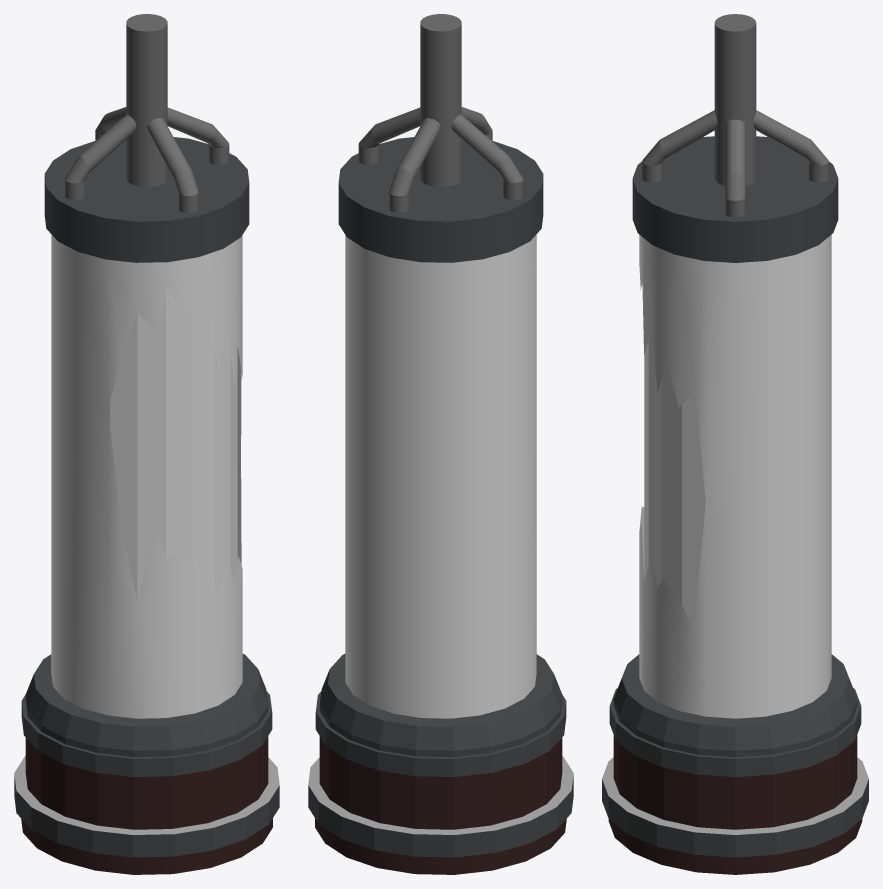
The model's file is Tube_Broken.fbx.
3 renders of one model, left to right at view 1: azimuth 30°, elevation 25°; view 2: azimuth 150°, elevation 25°; view 3: azimuth 270°, elevation 25°, orthographic.
Parts seen in each view (by area): view 1: Glass_Tube, Base, Tube_top, Pipe_Center, Pipe_02, Pipe_01, Pipe_04; view 2: Glass_Tube, Base, Tube_top, Pipe_Center, Pipe_02, Pipe_03, Pipe_04; view 3: Glass_Tube, Base, Tube_top, Pipe_Center, Pipe_04, Pipe_01, Pipe_03.
Part boxes in pixels (x1,y1,x2,y2): Glass_Tube: (51,234,242,718); Base: (14,654,279,874); Tube_top: (44,137,249,262); Pipe_Center: (126,14,167,186); Pipe_02: (64,114,136,200); Pipe_01: (147,118,198,212); Pipe_04: (167,107,229,164); Glass_Tube: (345,234,536,718); Base: (308,654,573,874); Tube_top: (338,137,543,262); Pipe_Center: (420,14,461,186); Pipe_02: (451,114,523,200); Pipe_03: (389,118,440,212); Pipe_04: (358,107,420,164); Glass_Tube: (639,235,831,718); Base: (602,654,868,874); Tube_top: (632,136,838,262); Pipe_Center: (714,14,756,185); Pipe_04: (725,119,745,217); Pipe_01: (642,110,717,182); Pipe_03: (753,110,828,182).
Bounding box in the file's own units: 101 × 332 × 101.
